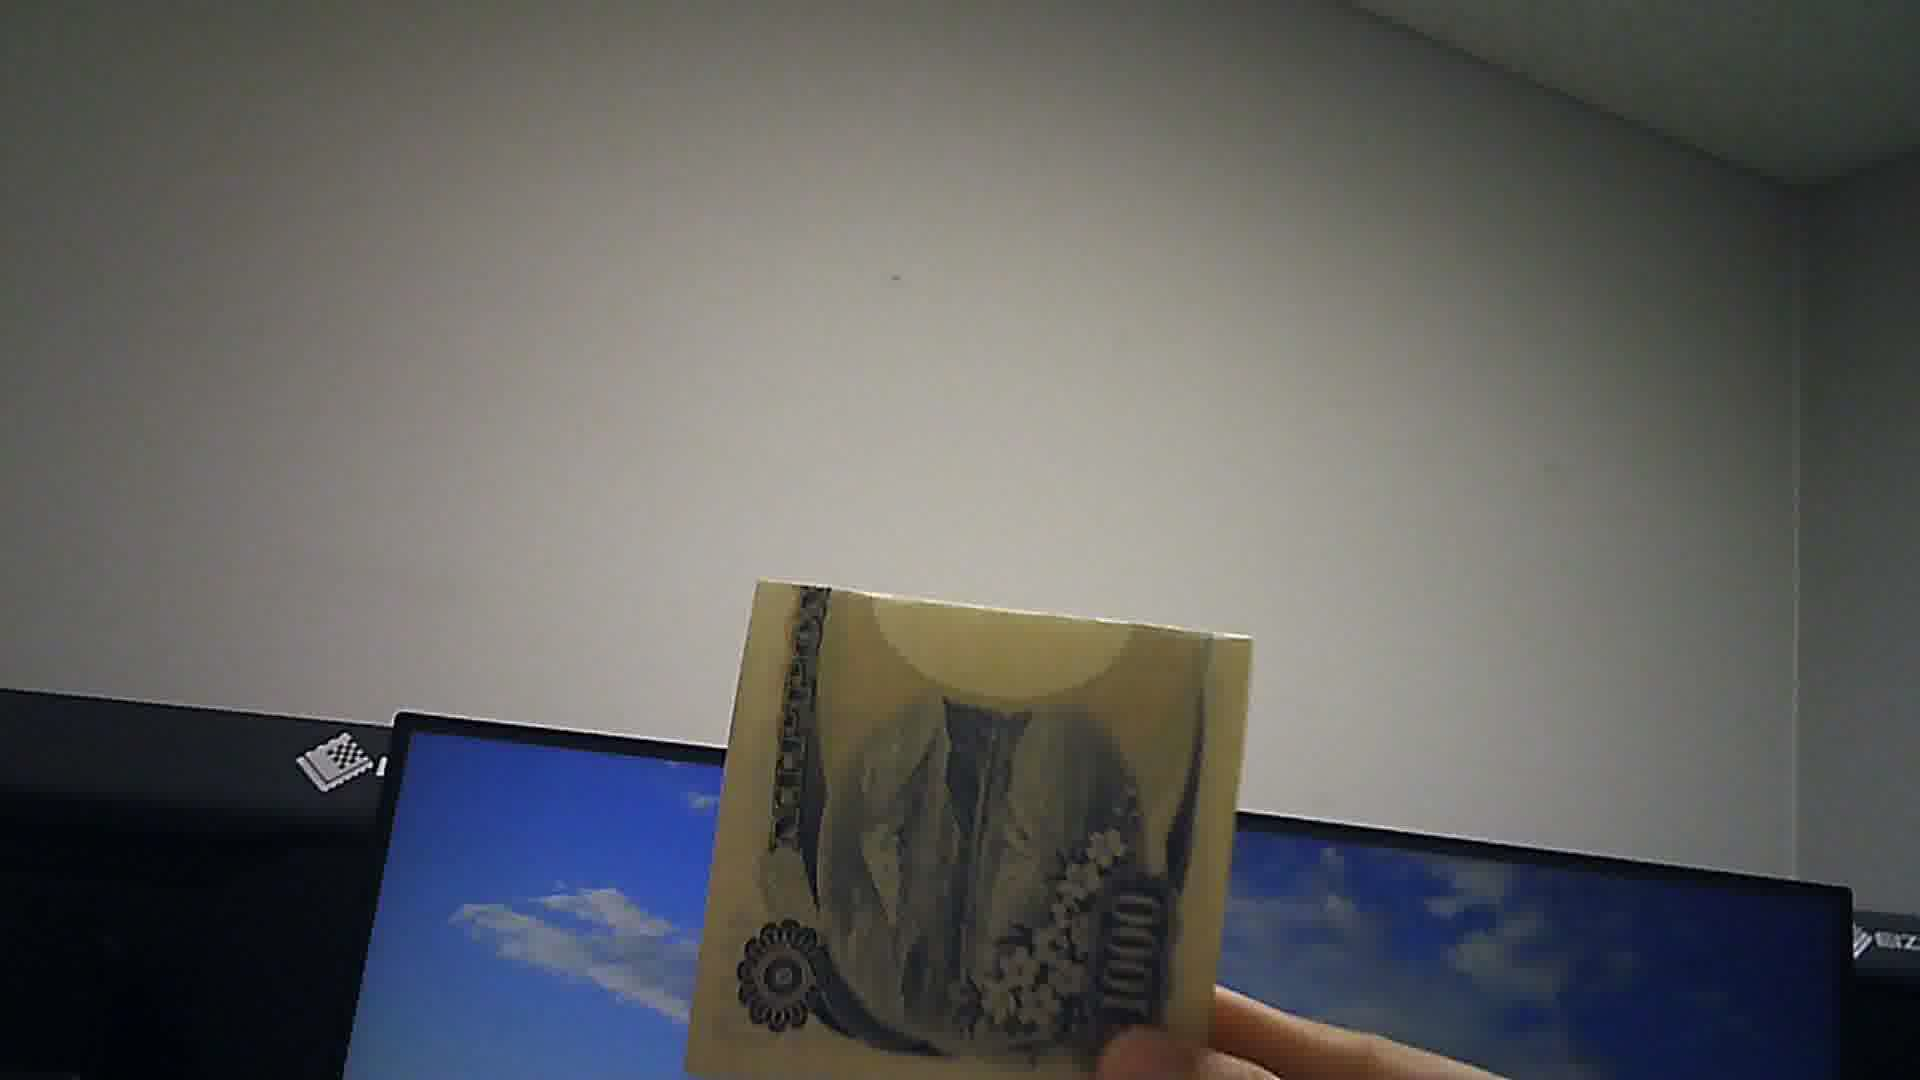1,000 Yen: (698, 574, 1226, 1069)
